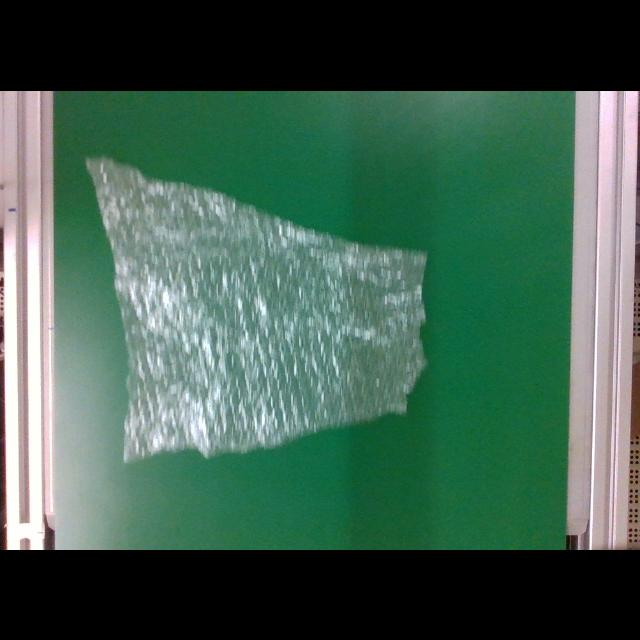scrap_plastic: (80, 153, 428, 465), (82, 152, 428, 464)
